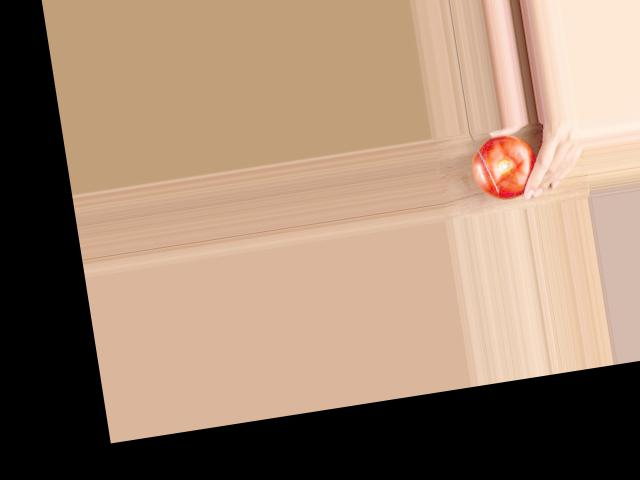tomato: (468, 131, 541, 203)
